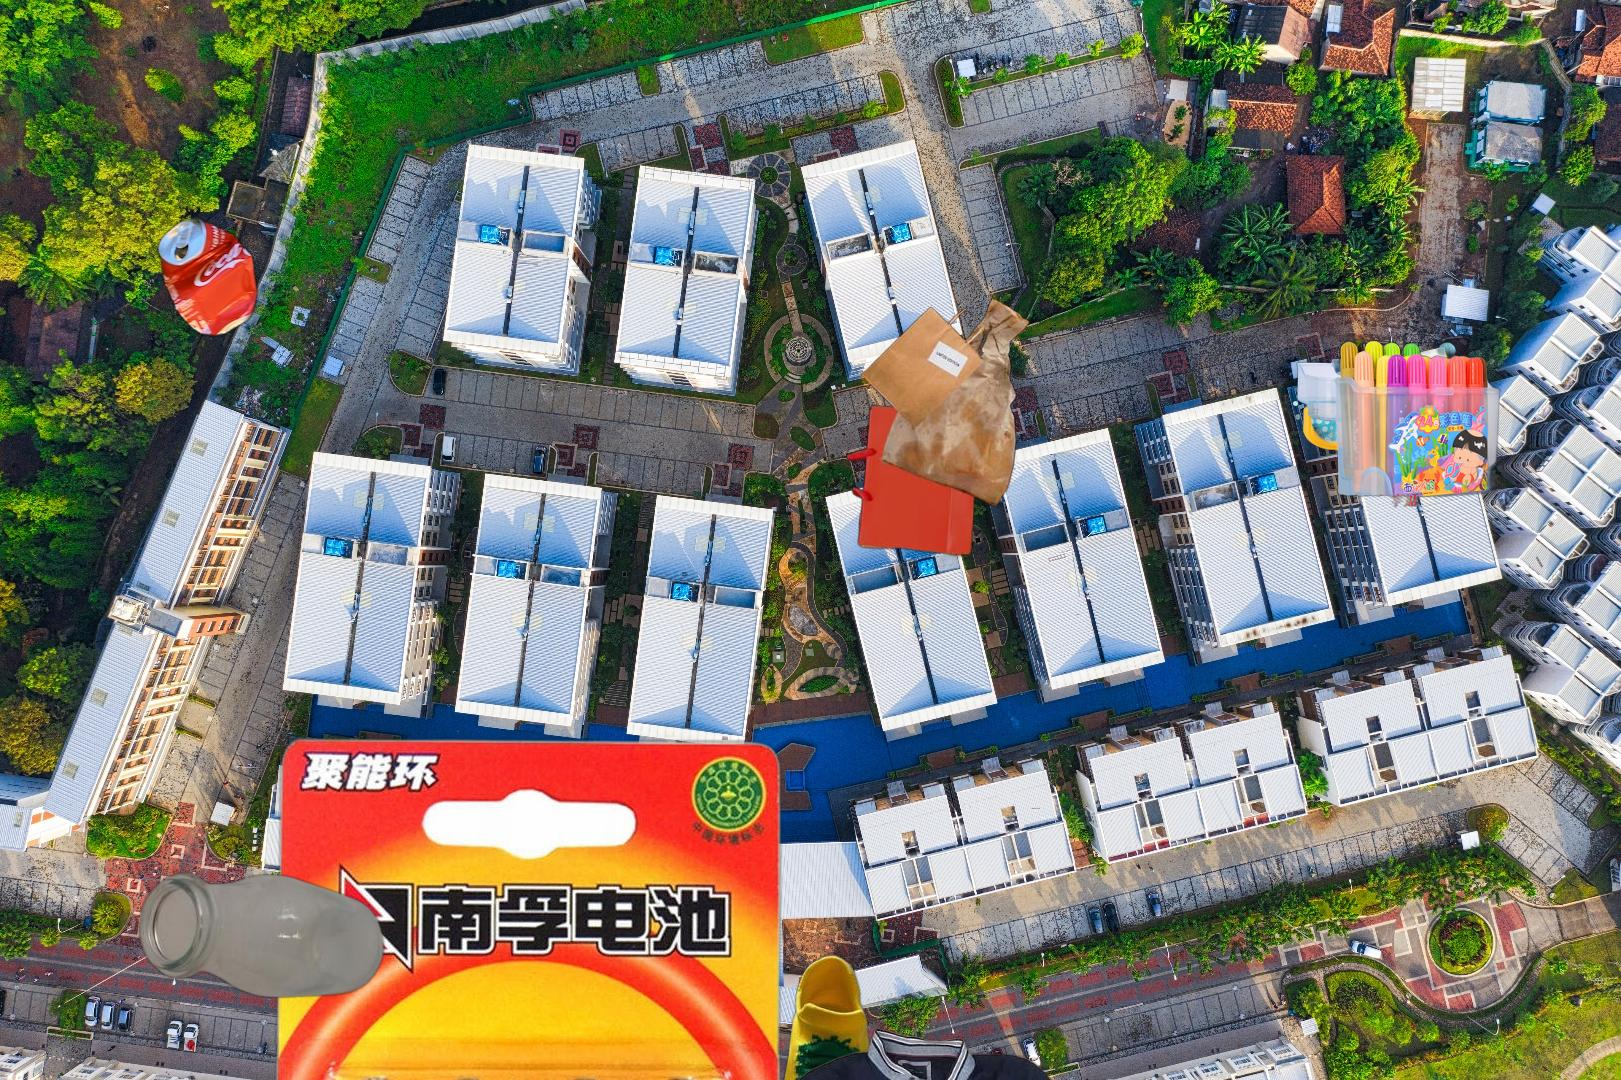battery: (260, 730, 789, 1080)
clothes: (728, 1025, 1104, 1080)
glass: (134, 869, 389, 1000)
metal-cans: (153, 212, 262, 344)
paper-bag: (842, 297, 1032, 560)
penholder: (1046, 821, 1621, 1080), (1290, 337, 1503, 510)
shoes: (664, 941, 880, 1080)
